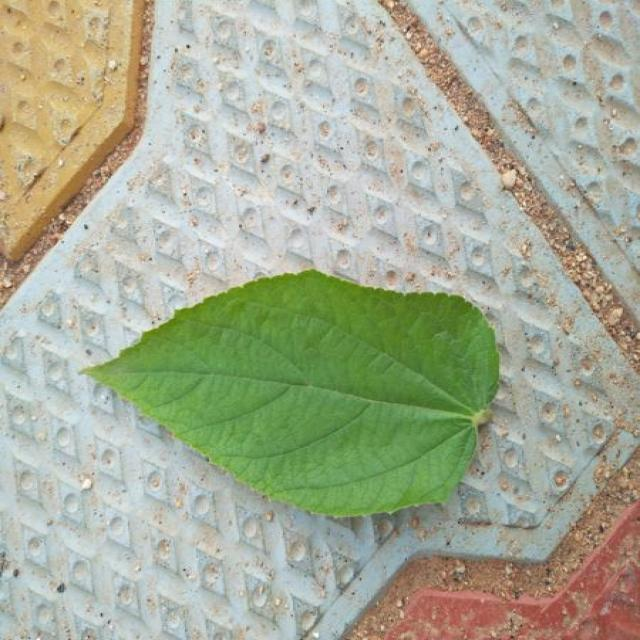gasagase: (85, 270, 500, 516)
